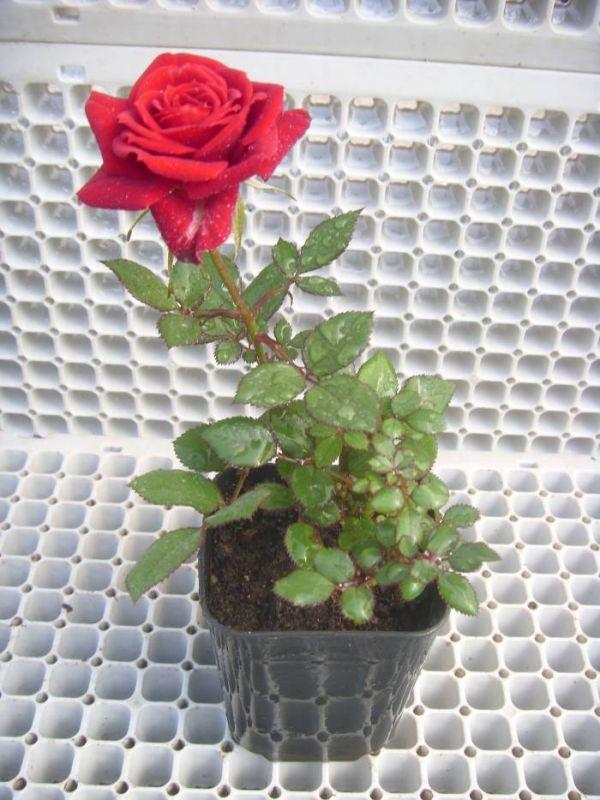Rose: (71, 37, 333, 258)
